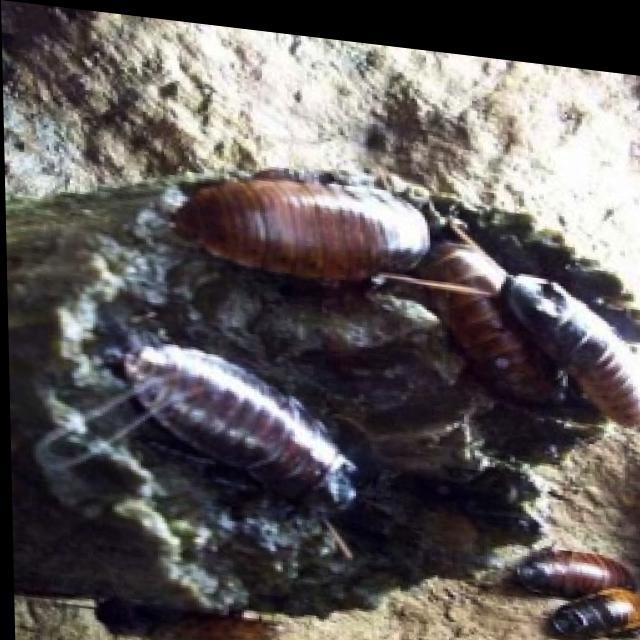cockroach: (131, 332, 377, 528), (410, 201, 592, 447), (178, 139, 455, 293), (507, 250, 639, 446), (506, 533, 640, 601), (539, 585, 640, 640)
